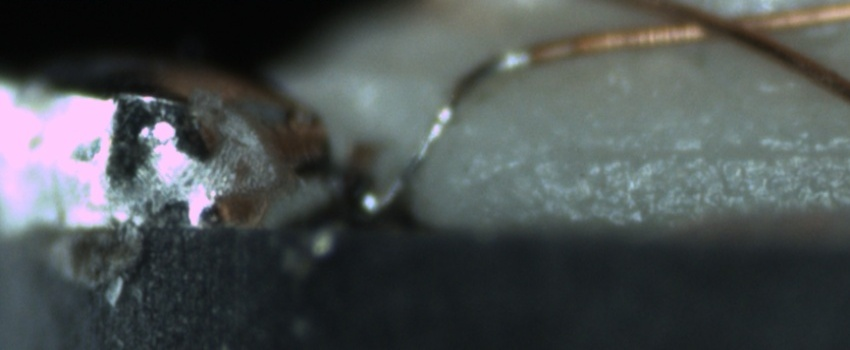CL: (644, 2, 767, 44)
DL: (517, 121, 850, 185)
TS: (374, 50, 531, 214)
TTCW: (350, 34, 614, 219)
